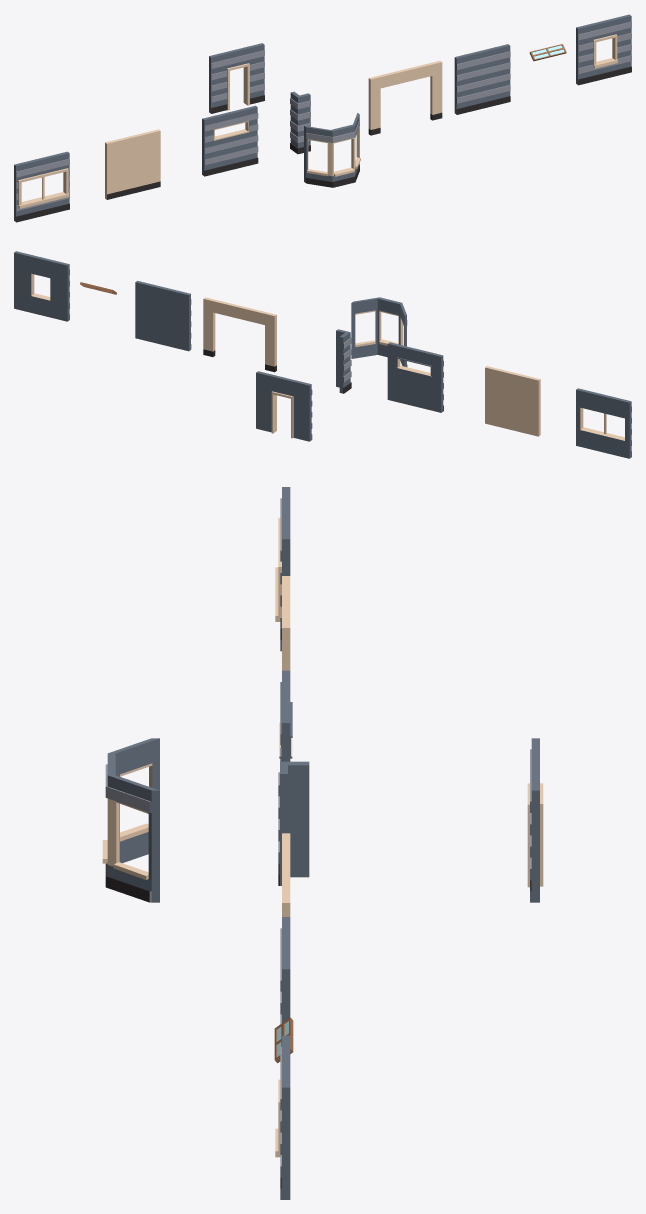
File: Walls.fbx
3 renders of one model, top to bottom at view 1: azimuth 30°, elevation 25°; view 2: azimuth 150°, elevation 25°; view 3: azimuth 270°, elevation 25°, orthographic. The views are drawn at different scales.
Parts seen in each view (by area): view 1: Cube, Cube.006, Cube.014, Cube.009, Cube.005, Cube.011, Cube.008, Cube.004, Cube.010, Cube.015; view 2: Cube, Cube.006, Cube.014, Cube.009, Cube.005, Cube.011, Cube.004, Cube.008, Cube.010; view 3: Cube.008, Cube.010, Cube.005, Cube.009, Cube.011, Cube.014, Cube.
Part boxes in pixels (x1,y1,x2,y2): Cube: (454,44,510,114); Cube.006: (105,129,160,199); Cube.014: (202,105,258,176); Cube.009: (576,14,631,85); Cube.005: (209,43,264,113); Cube.011: (14,151,69,222); Cube.008: (304,113,360,187); Cube.004: (368,60,442,135); Cube.010: (290,91,310,154); Cube.015: (529,44,566,61); Cube: (135,280,191,351); Cube.006: (485,366,540,436); Cube.014: (387,342,443,412); Cube.009: (14,251,69,321); Cube.005: (256,371,312,441); Cube.011: (576,388,631,458); Cube.004: (203,297,276,372); Cube.008: (351,297,407,366); Cube.010: (336,329,351,393); Cube.008: (102,738,159,902); Cube.010: (278,761,309,885); Cube.005: (527,738,543,902); Cube.009: (275,1035,290,1199); Cube.011: (275,487,290,651); Cube.014: (279,670,292,761); Cube: (280,917,290,1023).
Size of the model in its own units: 6893 by 600 by 2138.
